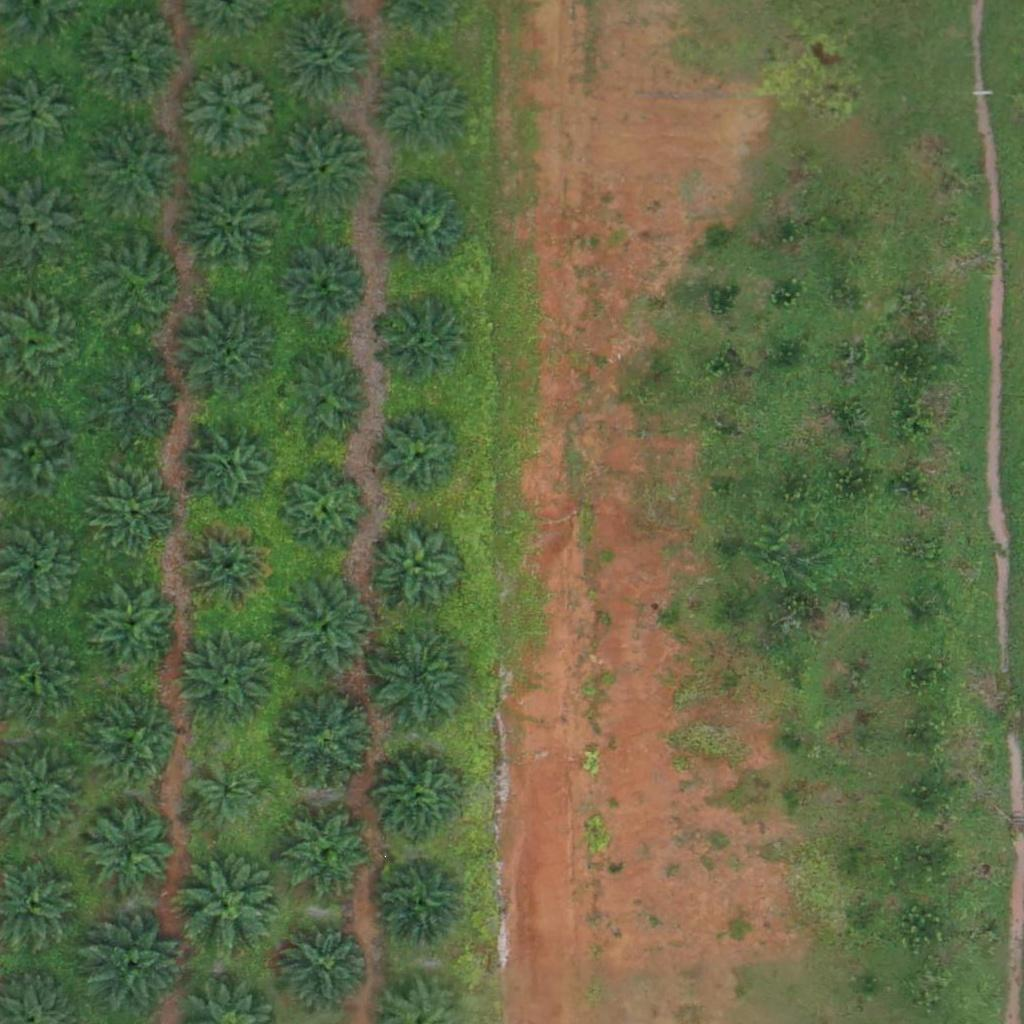Kelapa_Sawit: (83, 2, 183, 103), (88, 123, 188, 224), (179, 62, 279, 163), (178, 173, 278, 274), (179, 306, 279, 407), (281, 7, 381, 108), (274, 118, 374, 219), (373, 177, 473, 278), (183, 857, 283, 958), (83, 577, 183, 678), (84, 693, 184, 794), (82, 917, 182, 1018), (91, 232, 191, 332), (90, 352, 190, 452), (368, 627, 468, 727), (273, 579, 373, 679), (275, 693, 375, 793), (178, 631, 278, 731), (279, 242, 367, 330), (381, 298, 469, 386), (377, 412, 465, 500), (378, 522, 466, 610), (285, 809, 373, 897), (279, 919, 367, 1007), (92, 469, 180, 557), (283, 354, 370, 442), (379, 67, 466, 155), (188, 426, 275, 514), (378, 759, 465, 847), (379, 856, 466, 944), (280, 465, 367, 553), (184, 523, 271, 611), (87, 805, 174, 893), (190, 759, 265, 835)
